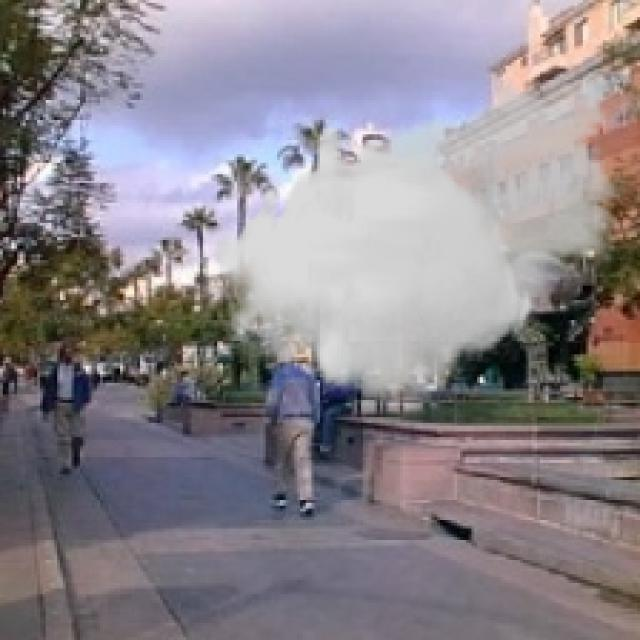smoke: (212, 63, 632, 406)
